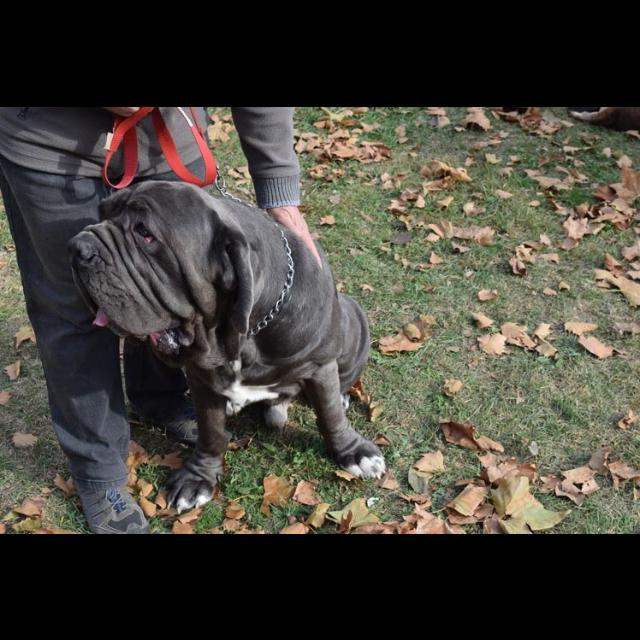mastino_napoletano: (67, 180, 387, 515)
